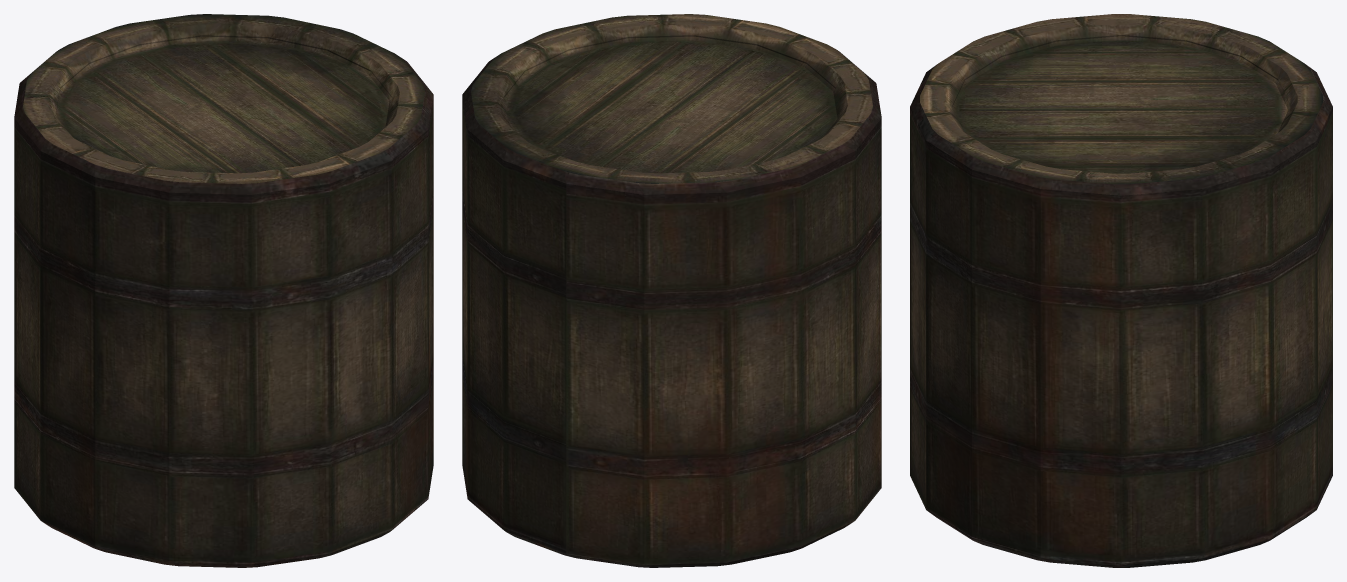
Rendered from Barril.fbx.
The picture shows the model from 3 angles, left to right: view 1: azimuth 30°, elevation 25°; view 2: azimuth 150°, elevation 25°; view 3: azimuth 270°, elevation 25°; orthographic projection.
Parts seen in each view (by area): view 1: Cylinder; view 2: Cylinder; view 3: Cylinder.
Boxes of the visible parts, bbox=[...] form: Cylinder: bbox=[14, 14, 433, 567]; Cylinder: bbox=[462, 14, 881, 567]; Cylinder: bbox=[910, 14, 1332, 567].
Bounding box in the file's own units: 200 × 200 × 200.
1 material, 1 textured.
